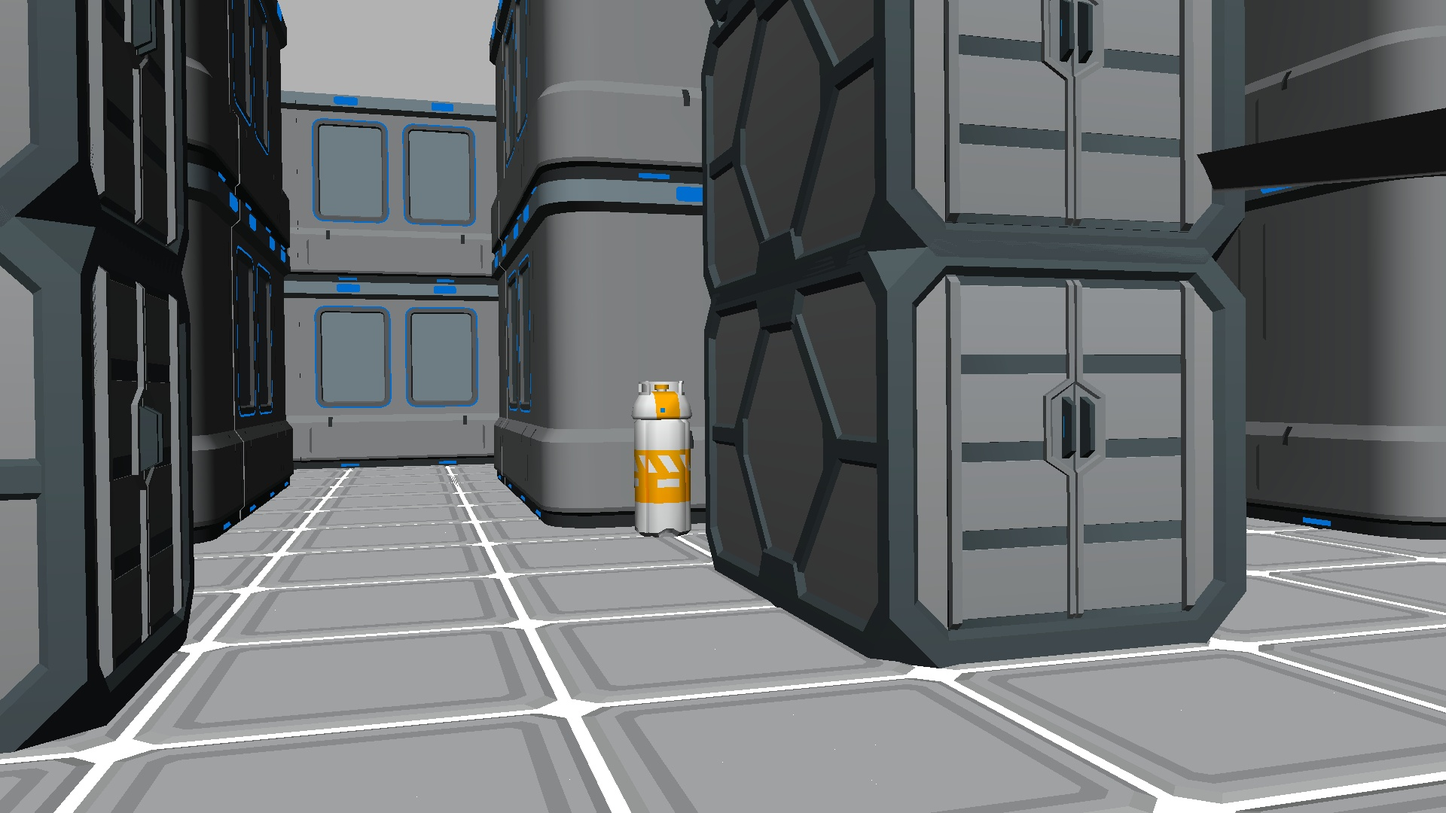yellow barrel: (632, 381, 694, 537)
